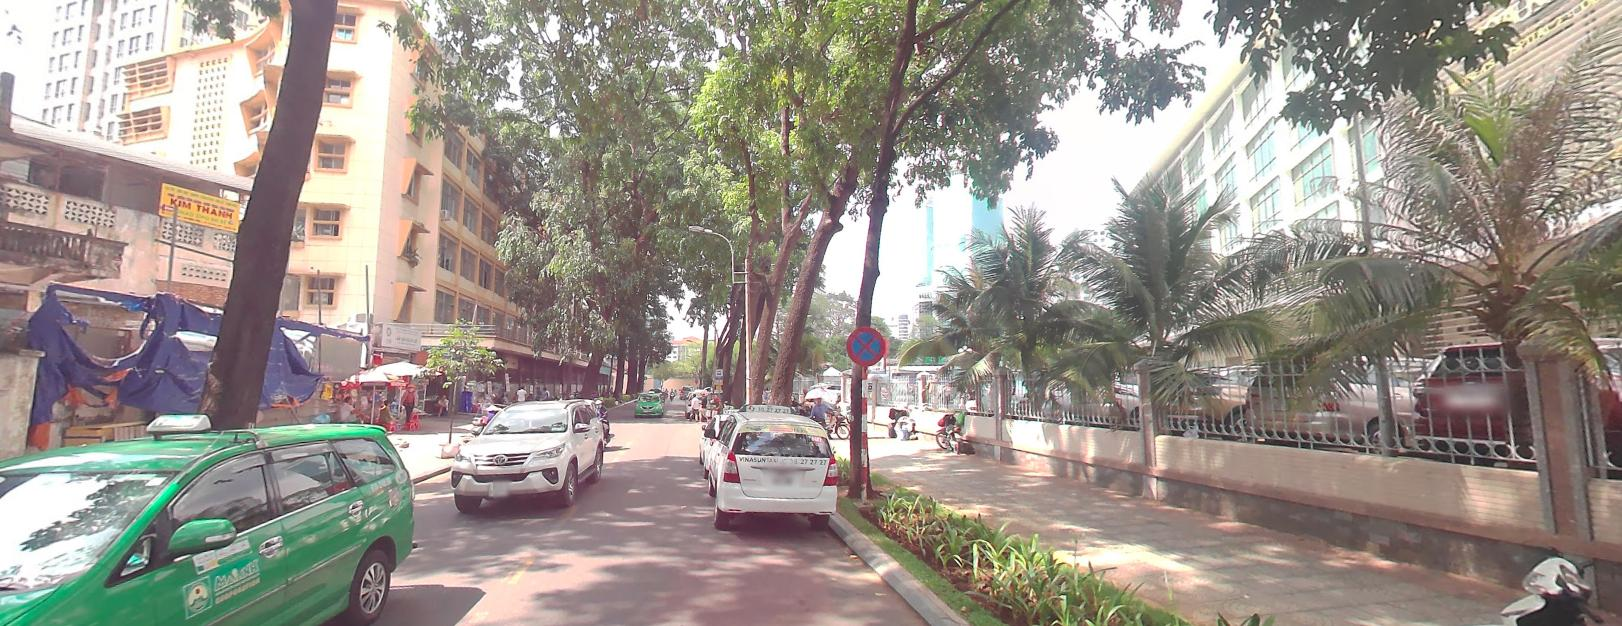Cam dung va do: (845, 324, 884, 364)
